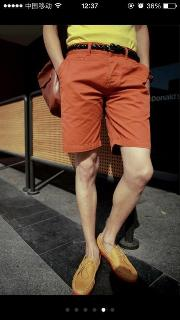short sleeve top: (66, 25, 138, 54)
shorts: (58, 42, 151, 156)
